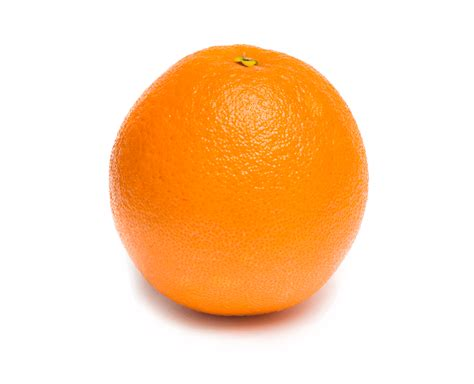orange: (99, 38, 373, 319)
